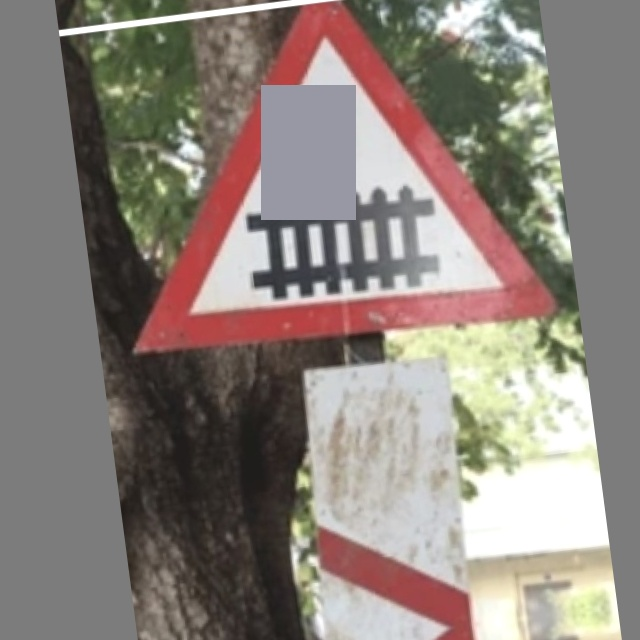Guarded_Level_Crossing: (115, 1, 538, 356)
